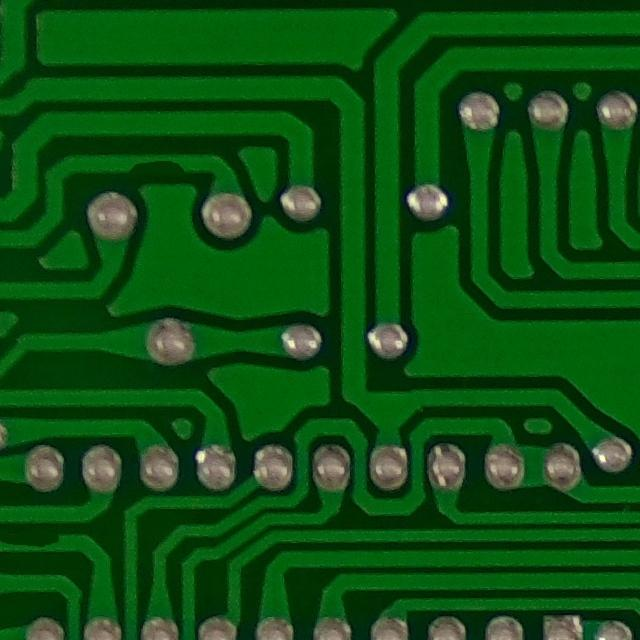mouse_bite: (114, 145, 198, 185), (0, 523, 74, 562)
